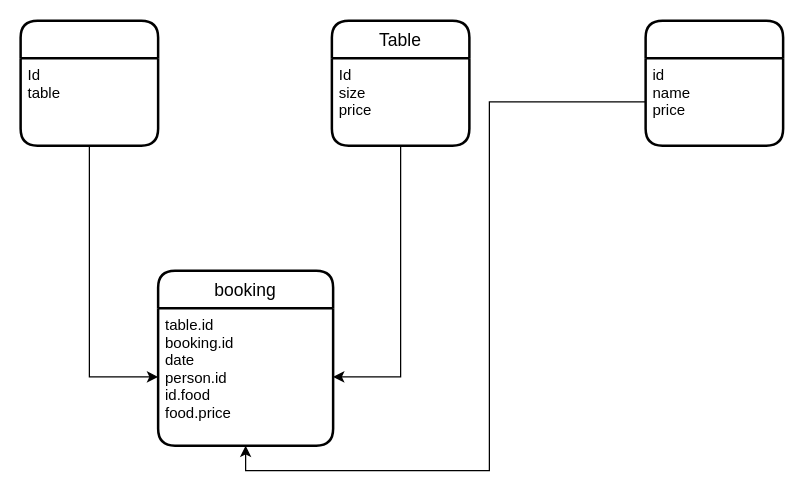
This 804x491 diagram has some shape labels left out. The box of each missing label's shape, as (x1, y1, x2, y2) in pixels:
Food: (644, 19, 784, 146)
User: (19, 19, 159, 146)
